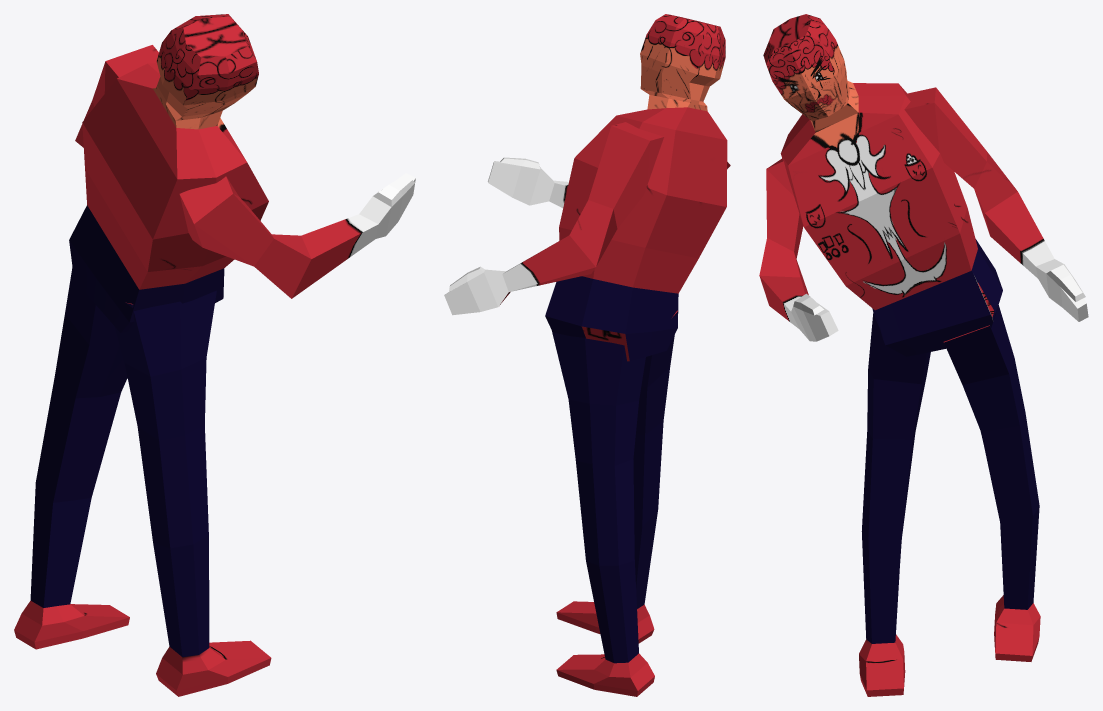
File: CacheDerrierePillier.fbx
3 renders of one model, left to right at view 1: azimuth 30°, elevation 25°; view 2: azimuth 150°, elevation 25°; view 3: azimuth 270°, elevation 25°, orthographic. The views are drawn at different scales.
Parts seen in each view (by area): view 1: Cube.001; view 2: Cube.001; view 3: Cube.001.
Boxes of the visible parts, <box> form: Cube.001: <box>14,14,415,696</box>; Cube.001: <box>444,14,730,696</box>; Cube.001: <box>759,14,1088,696</box>.
Size of the model in its own units: 182 by 426 by 198.
